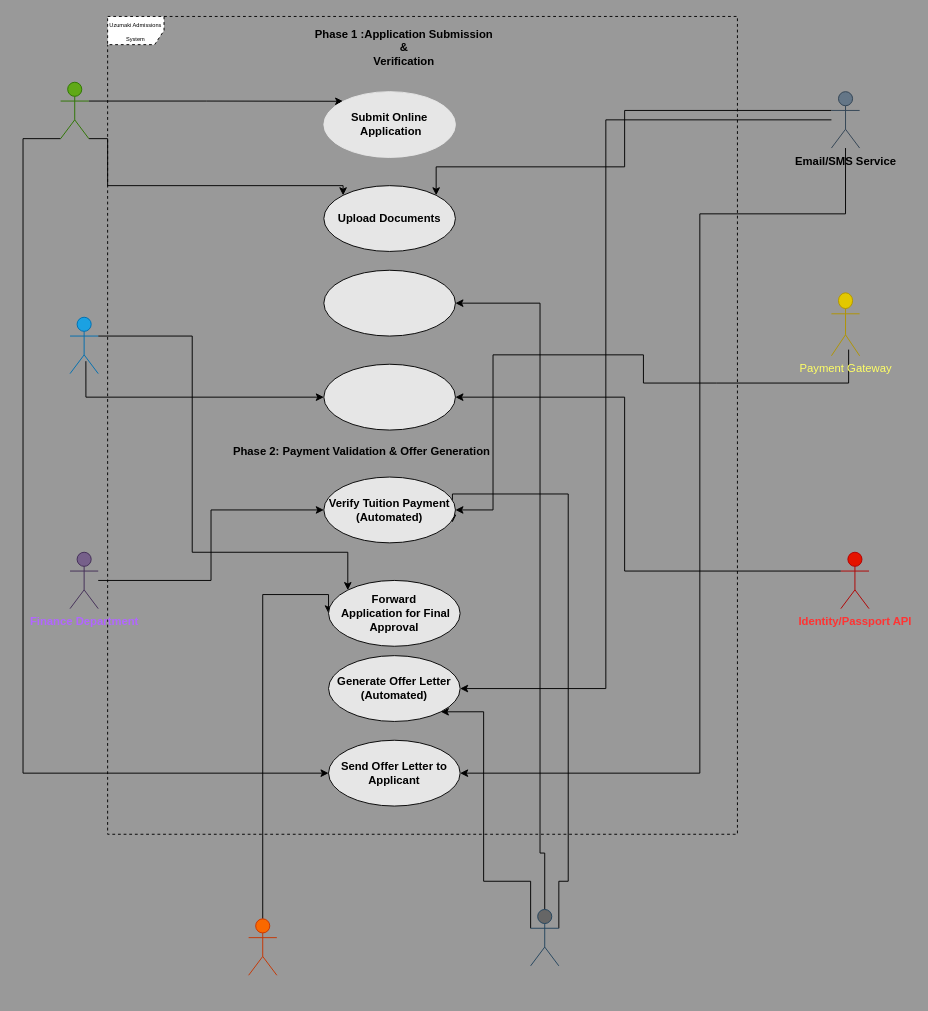
The diagram is 928 pixels wide and 1011 high, and some of its shapes have lost their labels. The shapes that lost their labels are listed below. From the top down, each one's centre as x and y in pixels, then its label:
At point (74, 110): "Applicant".
At point (389, 302): "Validate Completeness (Automated)".
At point (83, 345): "Admissions Staff".
At point (389, 396): "Verify Identity / Visa (External API)".
At point (262, 946): "Management / Governance".
At point (544, 937): "IT / Automation System".
